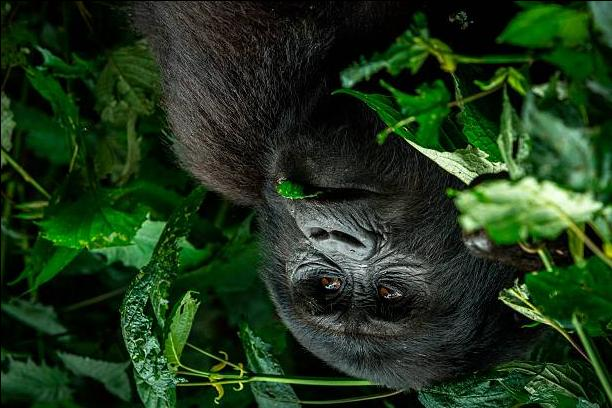goriile_montagne: (234, 1, 498, 408)
